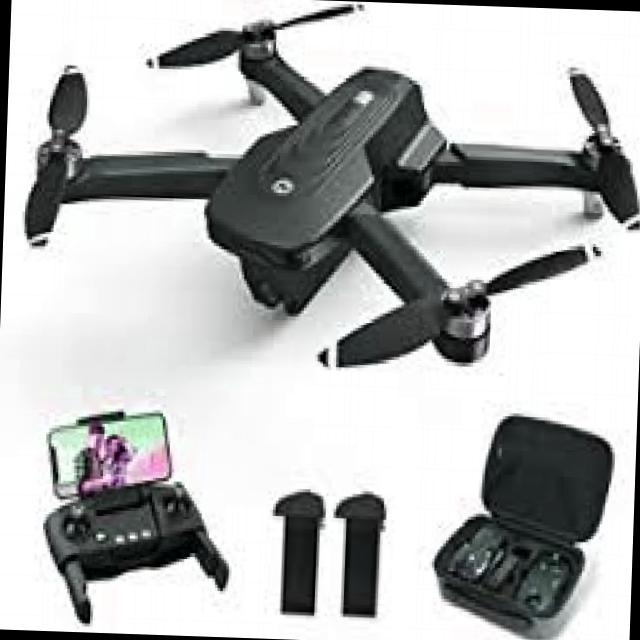drone: (11, 0, 640, 397)
